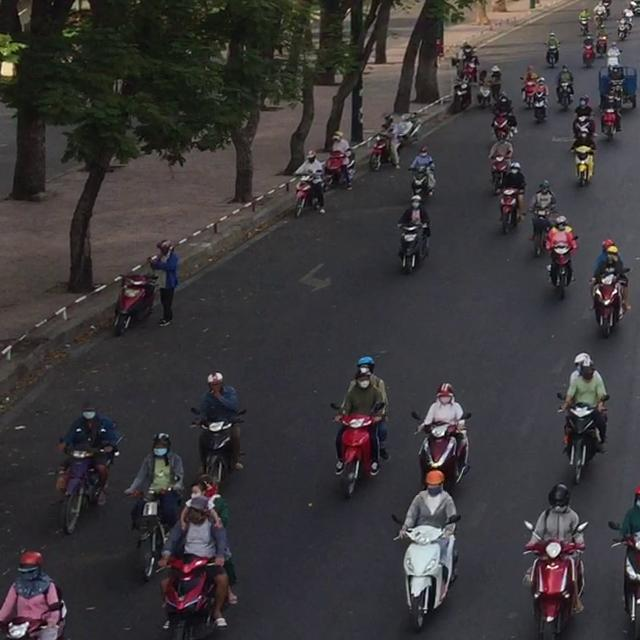Motorcycle: (390, 512, 461, 631), (521, 518, 588, 639), (56, 435, 122, 534), (156, 551, 226, 639), (123, 486, 182, 581), (329, 401, 385, 499), (410, 410, 471, 493), (555, 391, 609, 484), (189, 406, 246, 487), (607, 520, 639, 639), (112, 271, 159, 337), (589, 267, 631, 338), (0, 599, 67, 639), (545, 235, 578, 300), (395, 218, 431, 275), (599, 65, 637, 110), (293, 170, 326, 218), (496, 184, 526, 235), (322, 148, 355, 191), (528, 207, 554, 257), (368, 132, 400, 171), (569, 142, 596, 187), (598, 95, 622, 139), (407, 164, 435, 201), (488, 155, 510, 195), (490, 108, 514, 141), (398, 111, 421, 145), (452, 77, 472, 110), (555, 76, 574, 110), (519, 77, 536, 108), (532, 92, 548, 123), (476, 80, 491, 108)
